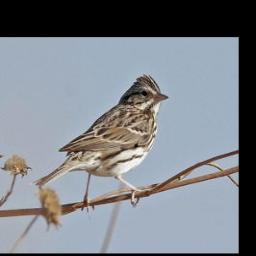Sparrow: (33, 74, 169, 215)
